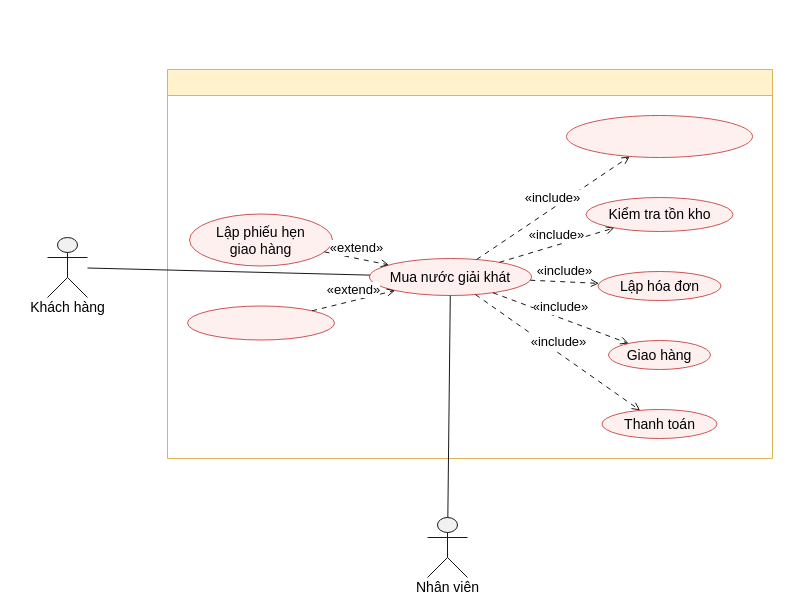
The diagram is 790 pixels wide and 613 high, and some of its shapes have lost their labels. The box of each missing label's shape, as (x1, y1, x2, y2) in pixels:
Lập phiếu ghi nợ: (186, 305, 334, 340)
PHÂN RÃ USE CASE MUA NƯỚC GIẢI KHÁT: (166, 68, 772, 458)
Tiếp nhận yêu cầu mua: (566, 114, 752, 158)
